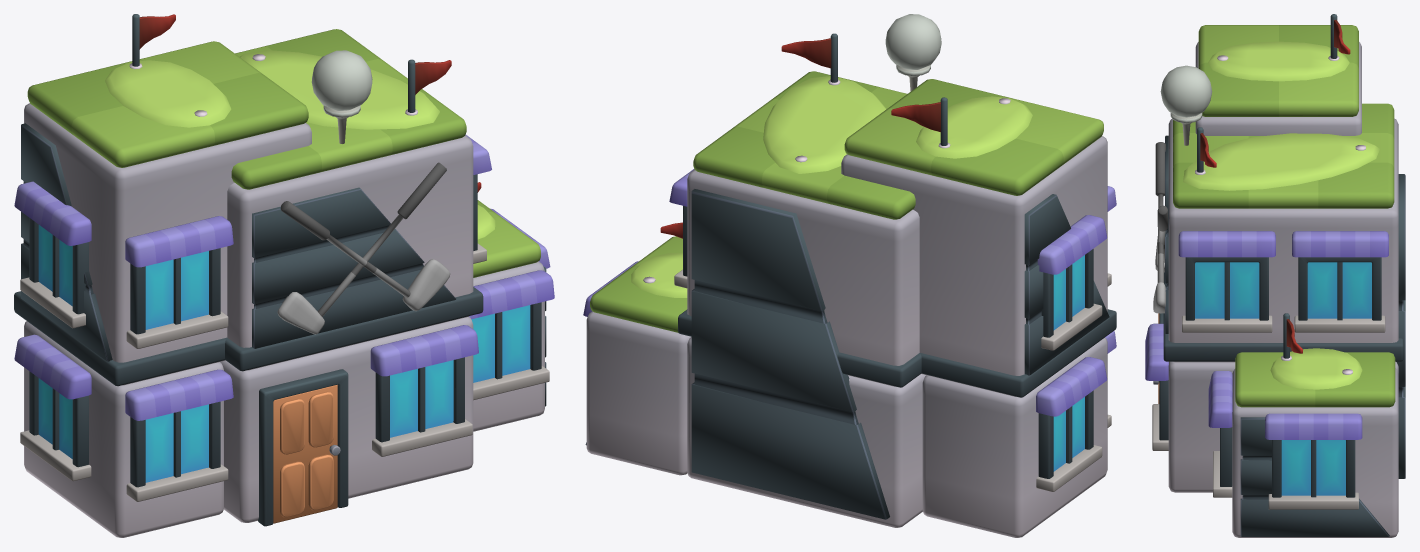
Rendered from mct_build_full_golf.fbx.
3 views of the same model, side by side, from view 1: azimuth 30°, elevation 25°; view 2: azimuth 150°, elevation 25°; view 3: azimuth 270°, elevation 25° (orthographic). The views are drawn at different scales.
Visible parts, largest first — view 1: mct_build_full_golf, mct_build_full_golf_door; view 2: mct_build_full_golf; view 3: mct_build_full_golf.
Part boxes in pixels (bbox=[...]): mct_build_full_golf: bbox=[14, 14, 554, 537]; mct_build_full_golf_door: bbox=[273, 385, 340, 523]; mct_build_full_golf: bbox=[583, 14, 1116, 537]; mct_build_full_golf: bbox=[1145, 14, 1405, 537].
Bounding box in the file's own units: 855 × 728 × 453.
